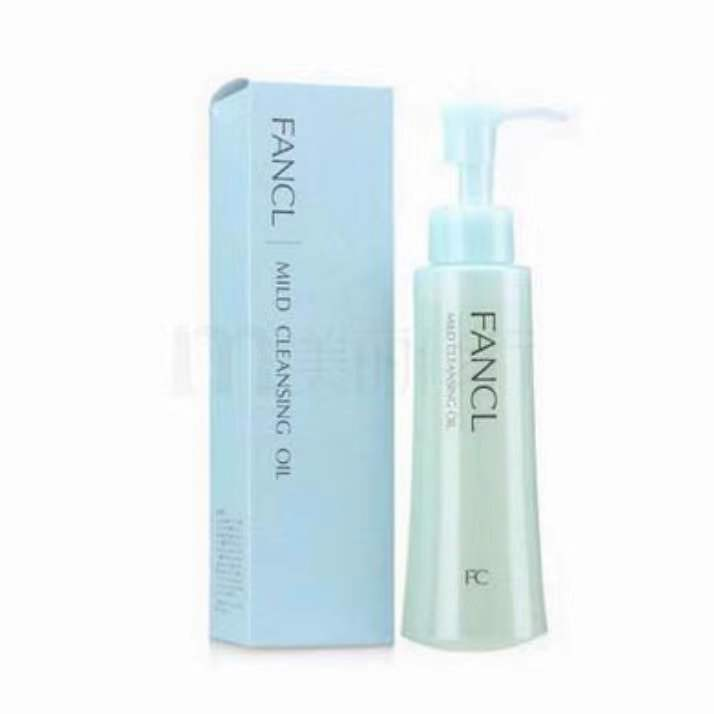cosmetic: (402, 104, 561, 638)
